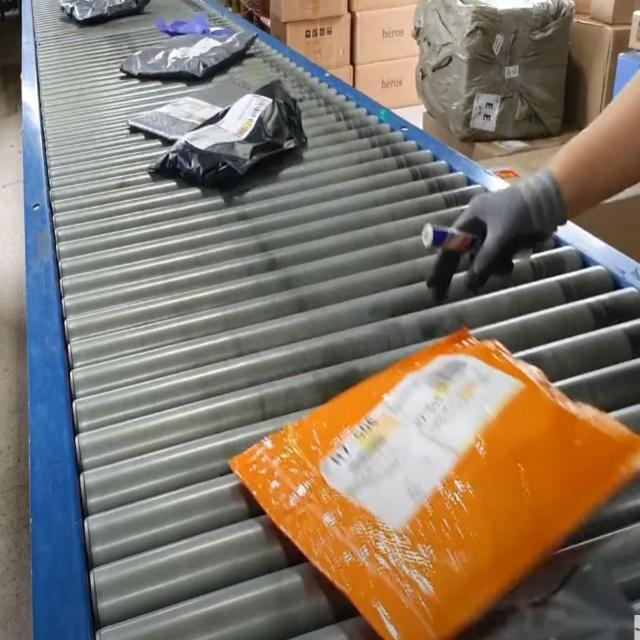gloved_hand: (419, 159, 575, 315)
